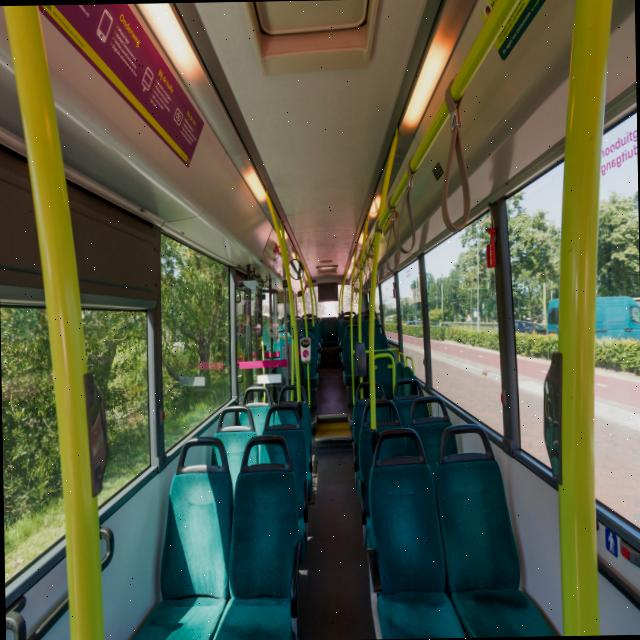empty-seat-frontal: (432, 421, 562, 638), (114, 434, 235, 640), (360, 424, 469, 640), (204, 432, 306, 640)
